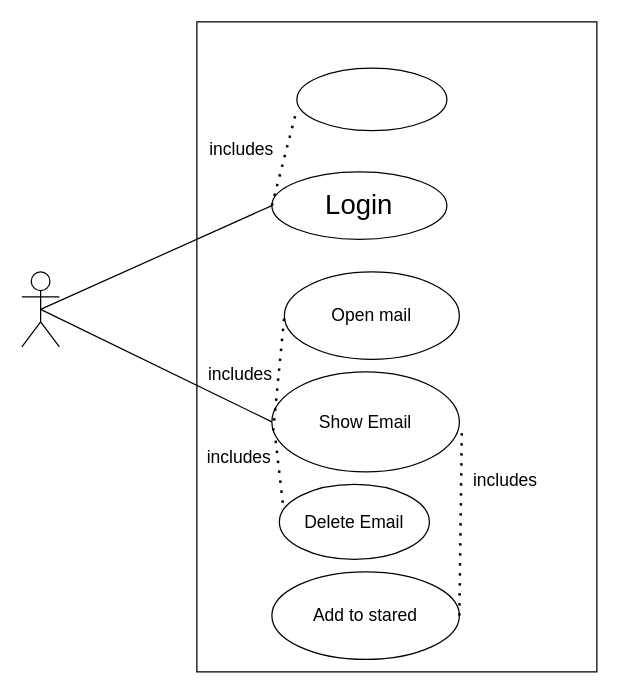
This 619x694 diagram has some shape labels left out. The shapes that lost their labels are listed below. From the top down, each one's centre as x and y in pixels, then its label:
At (371,99): "signup".
At (40,309): "user".
